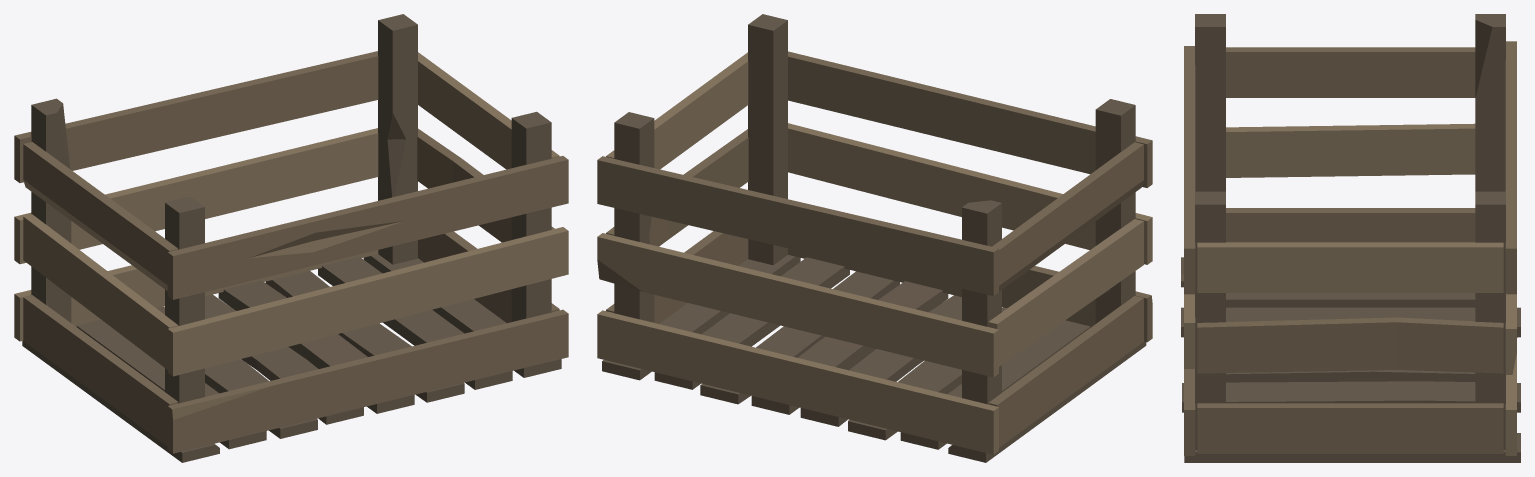
File: SM_Props_Farm_Crate_03.fbx
The picture shows the model from 3 angles, left to right: view 1: azimuth 30°, elevation 25°; view 2: azimuth 150°, elevation 25°; view 3: azimuth 270°, elevation 25°; orthographic projection. The views are drawn at different scales.
Parts seen in each view (by area): view 1: SM_Props_Farm_Crate_03; view 2: SM_Props_Farm_Crate_03; view 3: SM_Props_Farm_Crate_03.
Part boxes in pixels (x1=…): SM_Props_Farm_Crate_03: x1=14, y1=14, x2=568, y2=462; SM_Props_Farm_Crate_03: x1=597, y1=14, x2=1152, y2=462; SM_Props_Farm_Crate_03: x1=1181, y1=14, x2=1520, y2=462.
Bounding box in the file's own units: 205 × 121 × 146.
